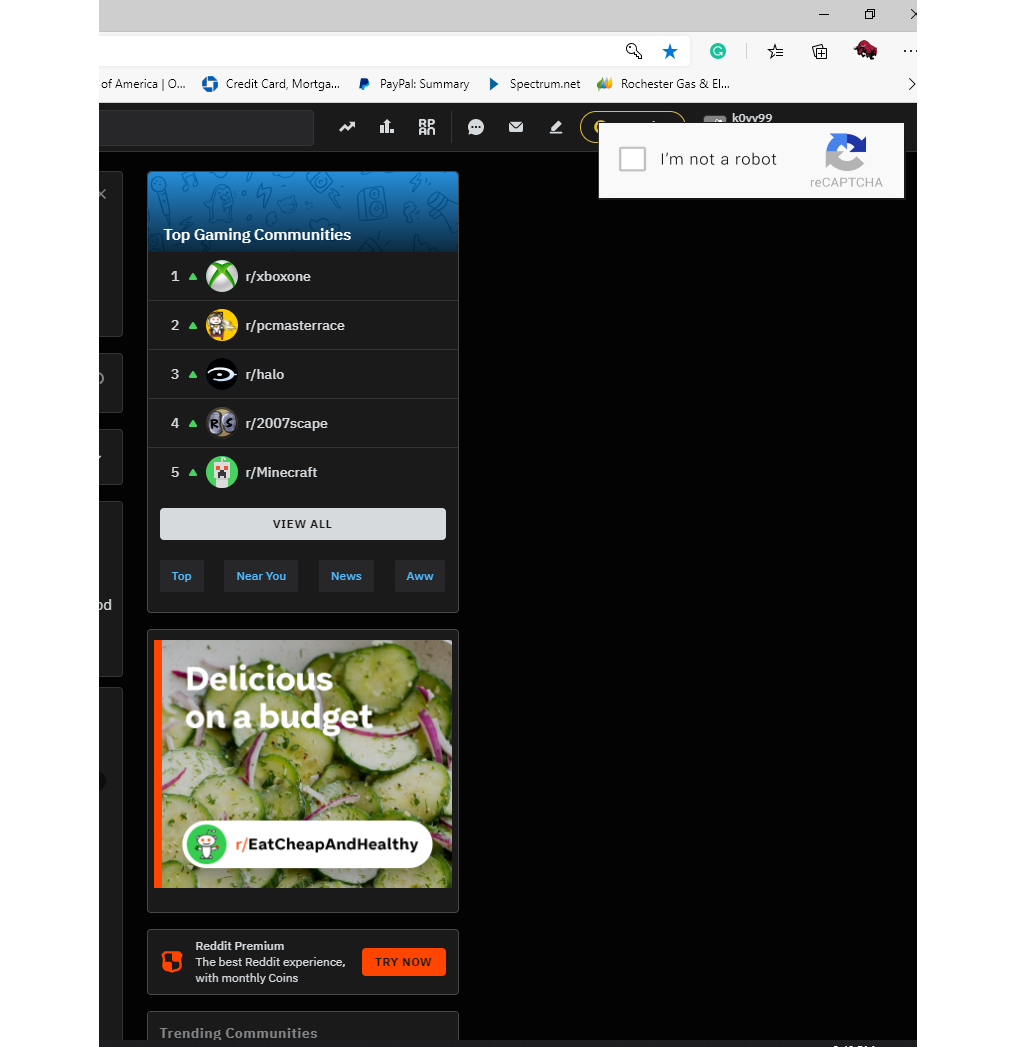captcha: (599, 122, 905, 198)
